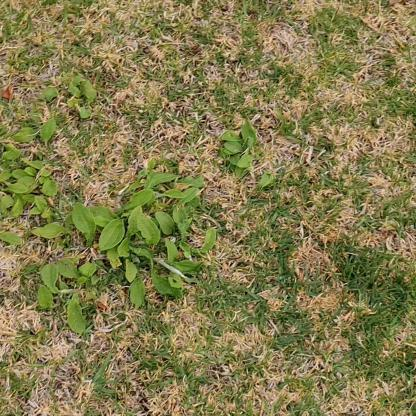Weeds: (0, 118, 218, 335), (220, 119, 274, 191), (38, 76, 97, 120)
